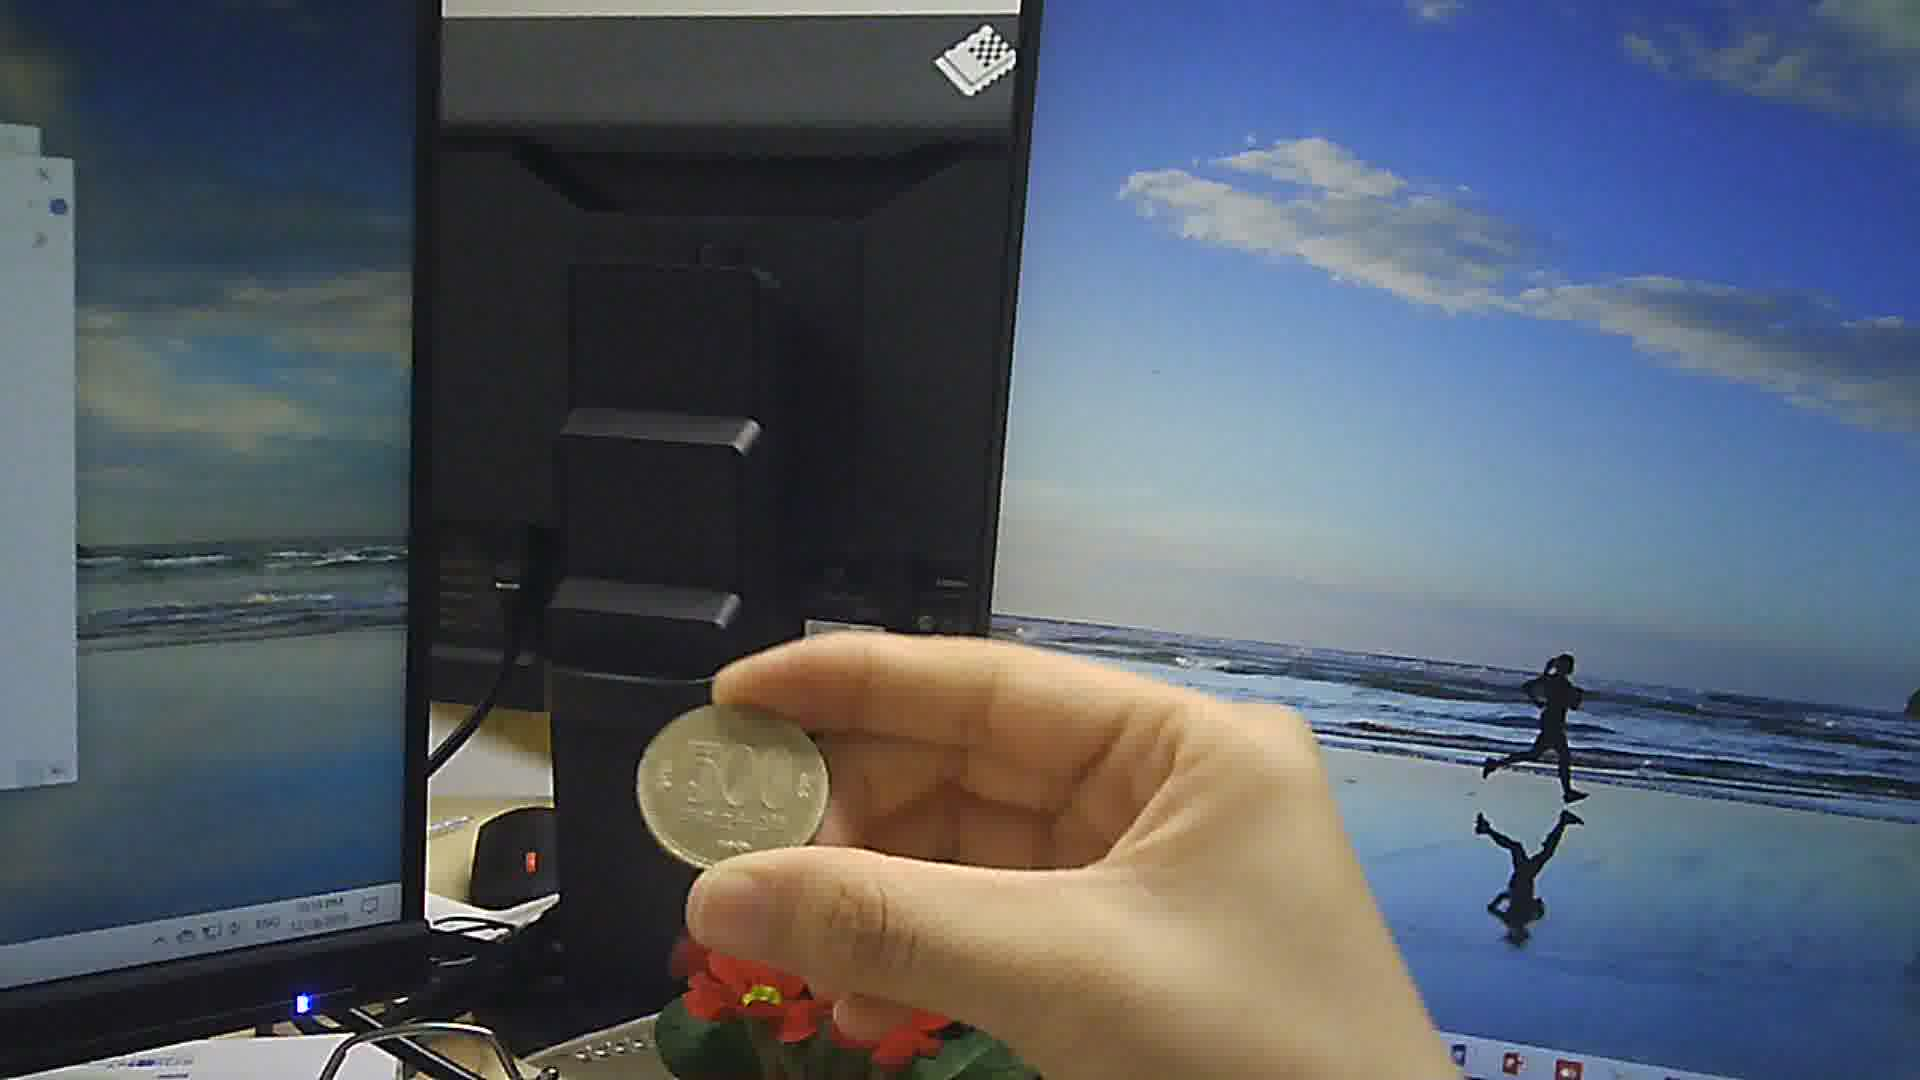500 Yen: (632, 703, 832, 865)
